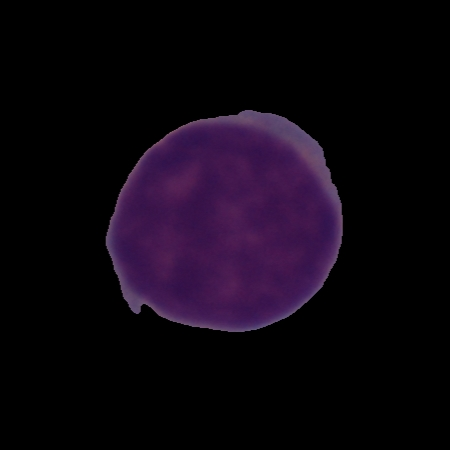ALL: (102, 107, 346, 335)
